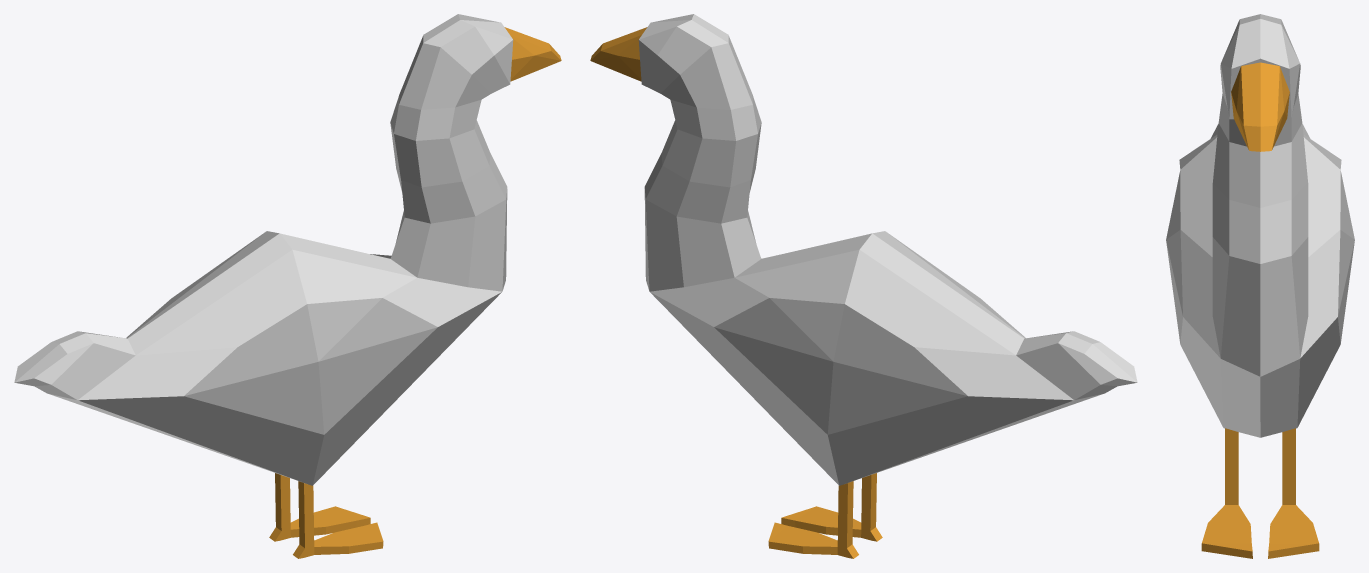
File: goose.fbx
3 renders of one model, left to right at view 1: azimuth 30°, elevation 25°; view 2: azimuth 150°, elevation 25°; view 3: azimuth 270°, elevation 25°, orthographic. The views are drawn at different scales.
Parts seen in each view (by area): view 1: Body, Legs, Beak; view 2: Body, Legs, Beak; view 3: Body, Legs, Beak.
Part boxes in pixels (left/top/right/bottom): Body: left=14, top=14, right=513, bottom=485; Legs: left=269, top=473, right=383, bottom=558; Beak: left=504, top=27, right=561, bottom=81; Body: left=638, top=14, right=1137, bottom=485; Legs: left=768, top=473, right=882, bottom=558; Beak: left=590, top=27, right=647, bottom=81; Body: left=1166, top=14, right=1354, bottom=437; Legs: left=1201, top=428, right=1319, bottom=558; Beak: left=1231, top=62, right=1289, bottom=151.
Size of the model in its own units: 0.919 by 3.18 by 3.74.
